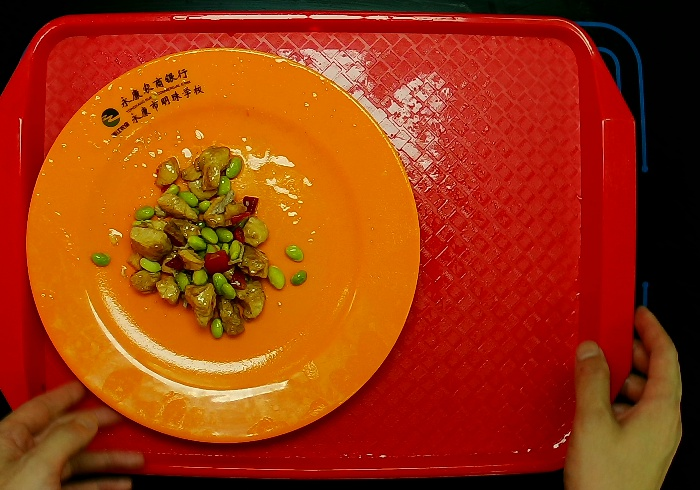YKMZ-Ju_Se_Mian_Pan: (20, 41, 434, 453)
